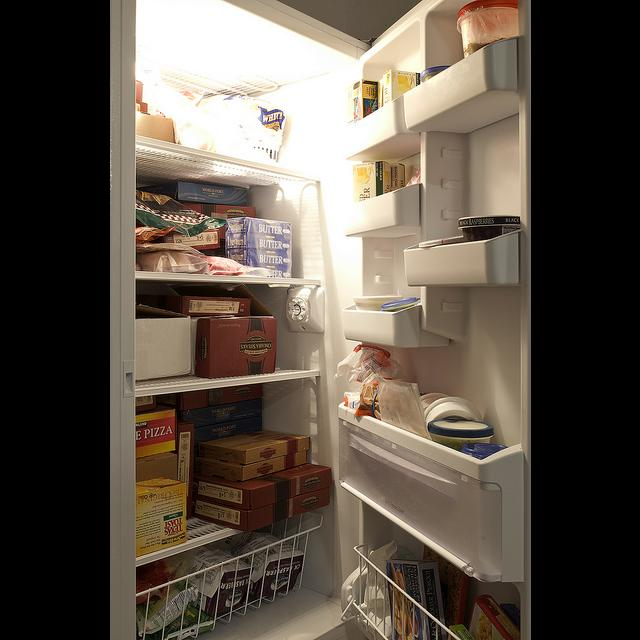Refrigerator: (110, 1, 531, 633)
